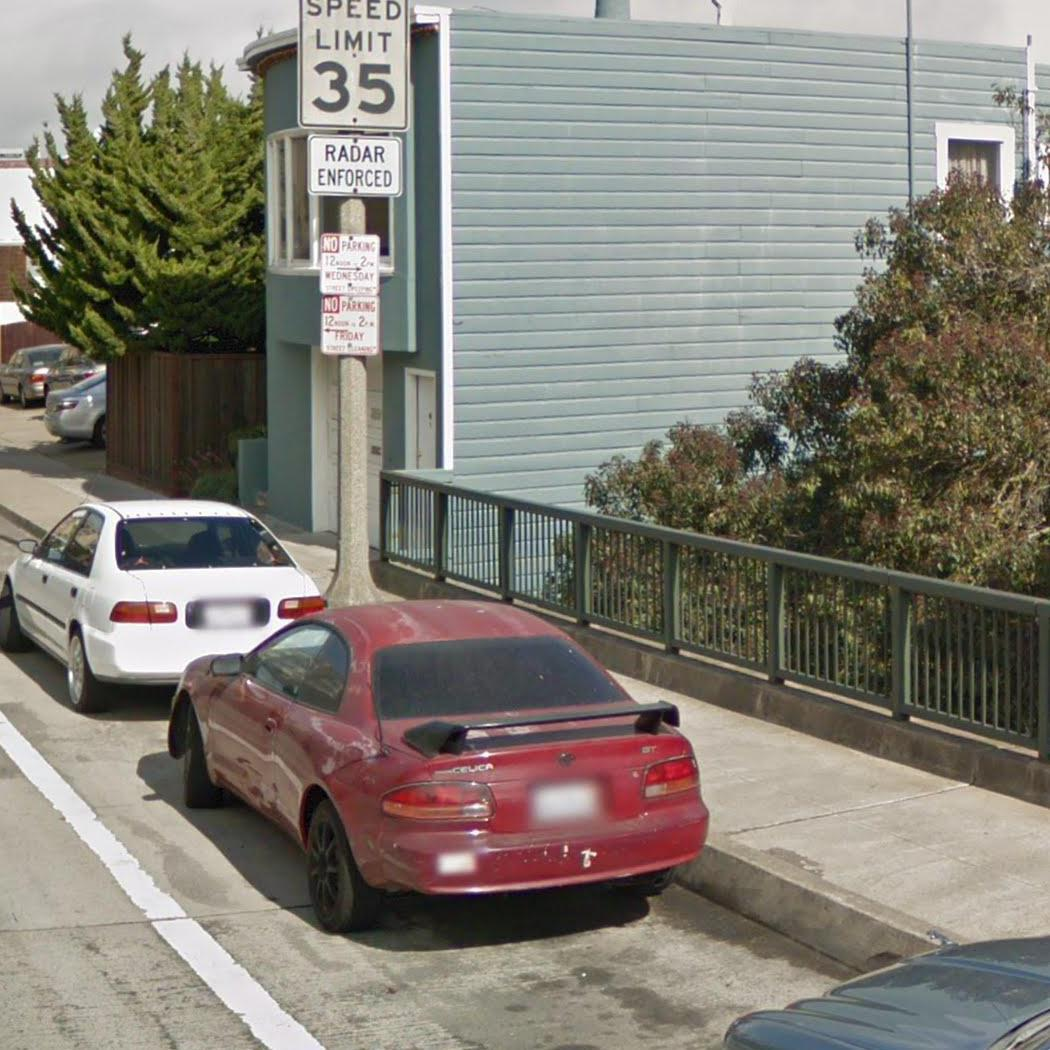No Parking: (315, 293, 385, 360), (313, 230, 386, 293)
